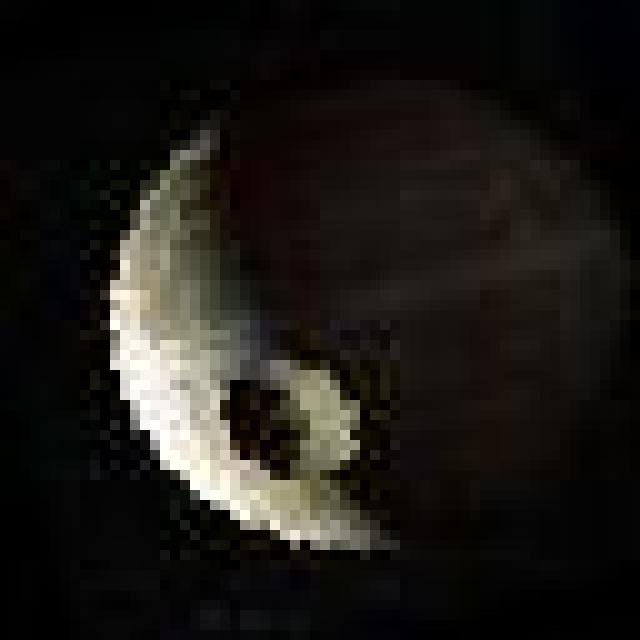Death Star: (90, 100, 410, 560)
